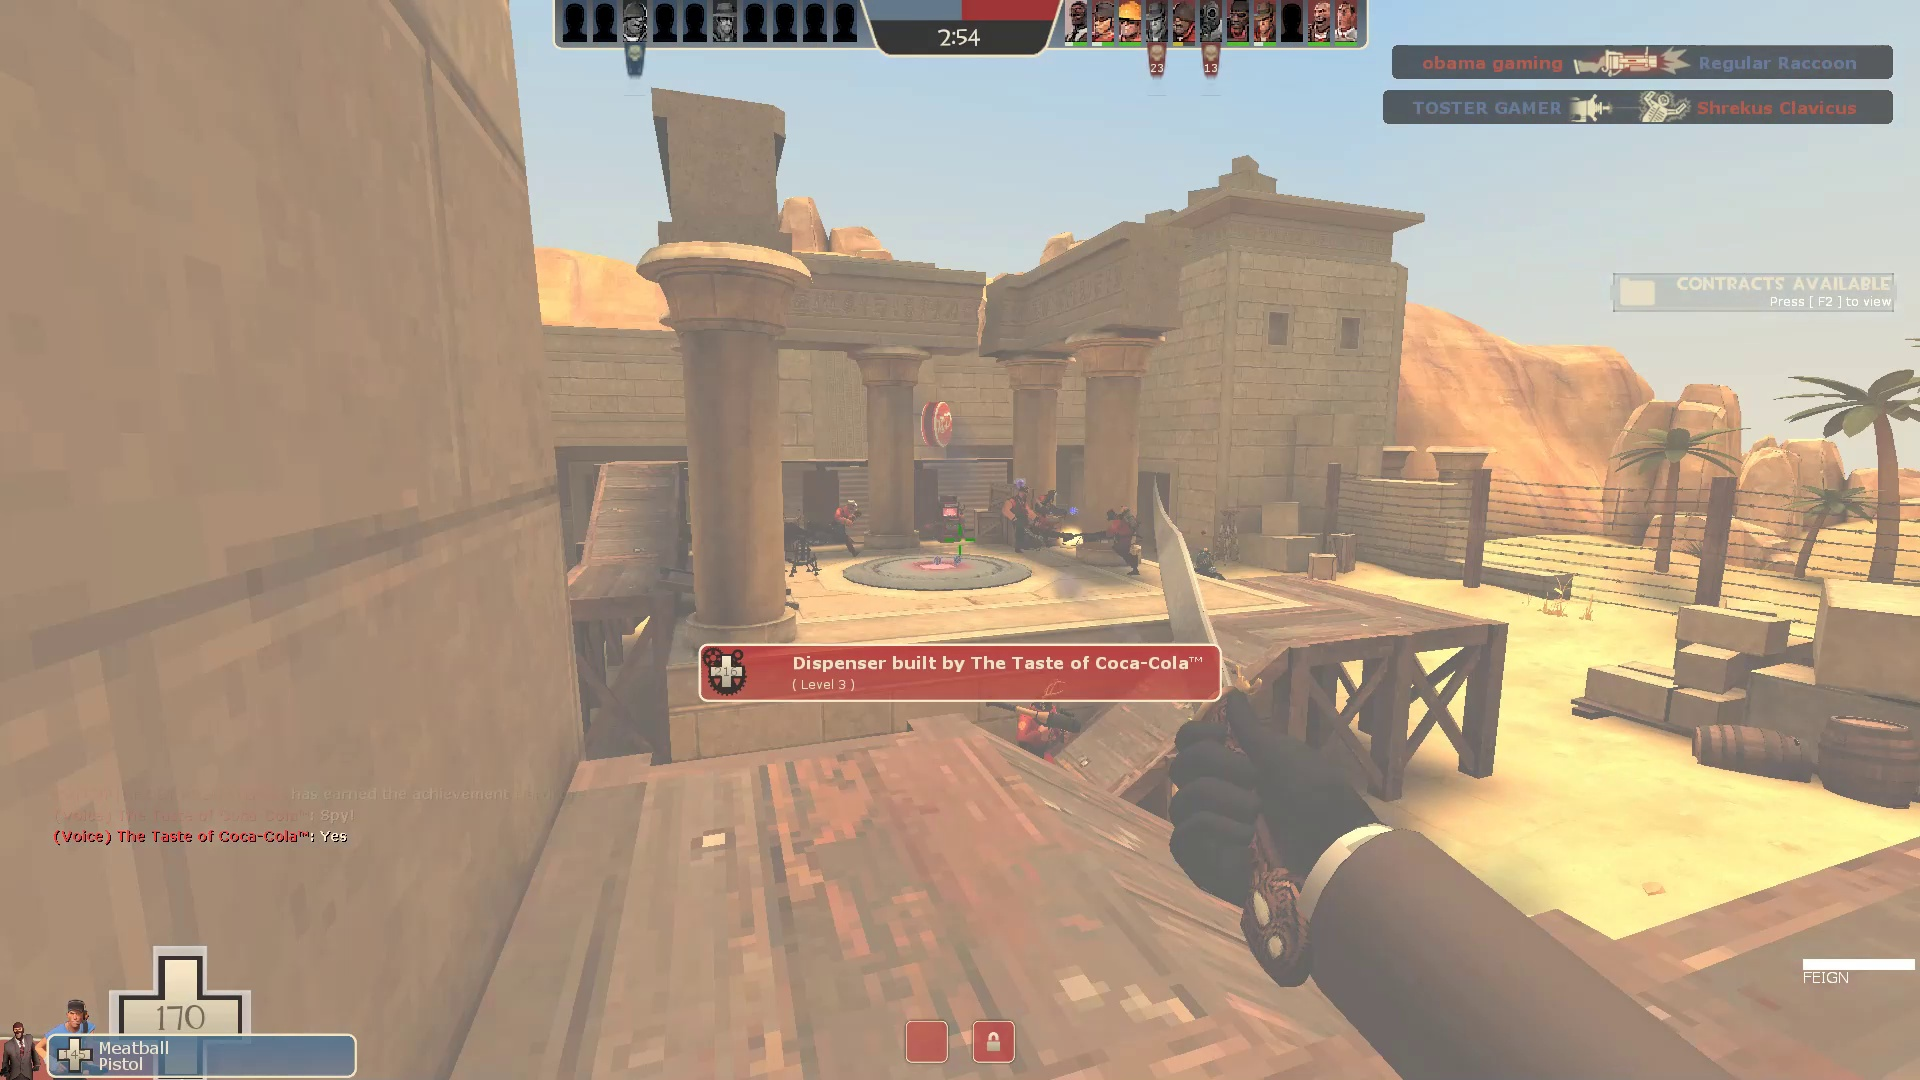blu_pyro: (1183, 541, 1232, 589)
red_dispenser: (927, 491, 971, 549)
red_engineer: (808, 493, 872, 564)
red_heavy: (997, 479, 1067, 555)
red_pyro: (1048, 500, 1153, 580)
red_sentry_3: (774, 516, 832, 579)
red_soldier: (981, 676, 1091, 804)
